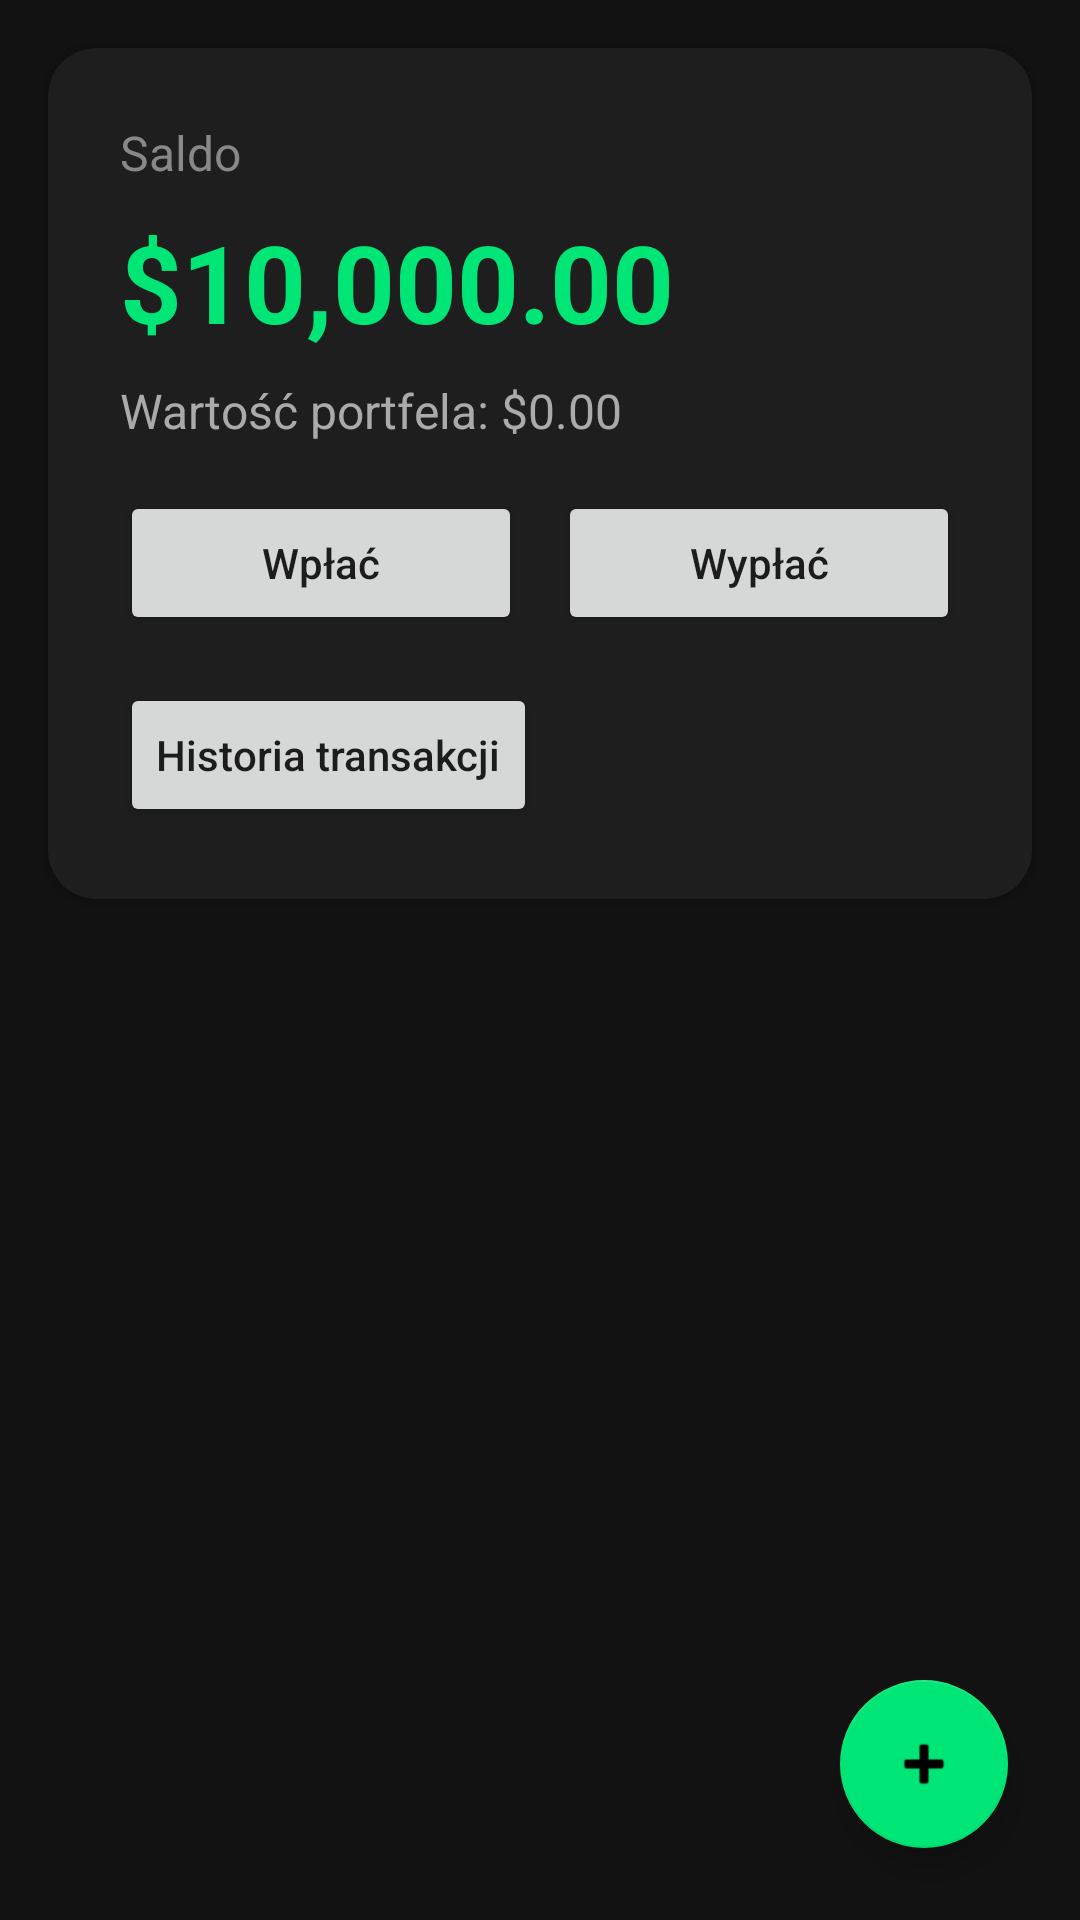

Screen size 1080*1920. Icon name, then its box in pixels as (x1, y1, x2, y2):
add: (840, 1680, 1008, 1848)
